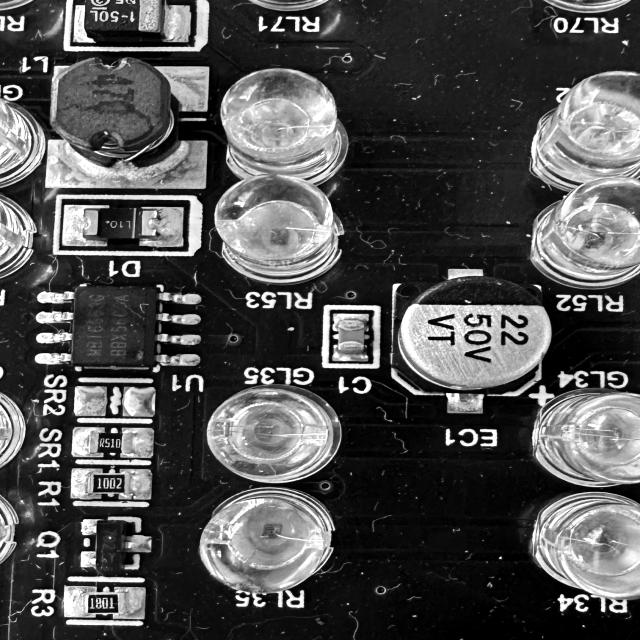Capacitor: (396, 276, 553, 390), (84, 0, 169, 41), (338, 320, 365, 354)
Diode: (84, 208, 160, 240), (96, 520, 125, 572)
IC: (71, 286, 158, 368)
Inductor: (51, 57, 181, 168)
Register: (99, 386, 134, 416), (88, 473, 131, 494), (90, 432, 131, 452), (86, 593, 123, 613)
Soldering: (150, 208, 183, 246), (124, 387, 156, 417), (164, 8, 192, 41), (66, 586, 94, 618), (125, 469, 154, 499), (117, 588, 145, 618), (71, 468, 98, 498), (76, 387, 104, 415), (128, 428, 154, 457), (74, 427, 98, 457), (66, 206, 84, 246), (334, 347, 367, 361), (336, 314, 368, 323)
led: (218, 66, 348, 187), (197, 486, 337, 594), (528, 69, 640, 202), (214, 174, 347, 282), (204, 384, 345, 485), (529, 175, 640, 289), (531, 491, 640, 597), (534, 387, 640, 487), (0, 63, 48, 189), (0, 169, 38, 281)
